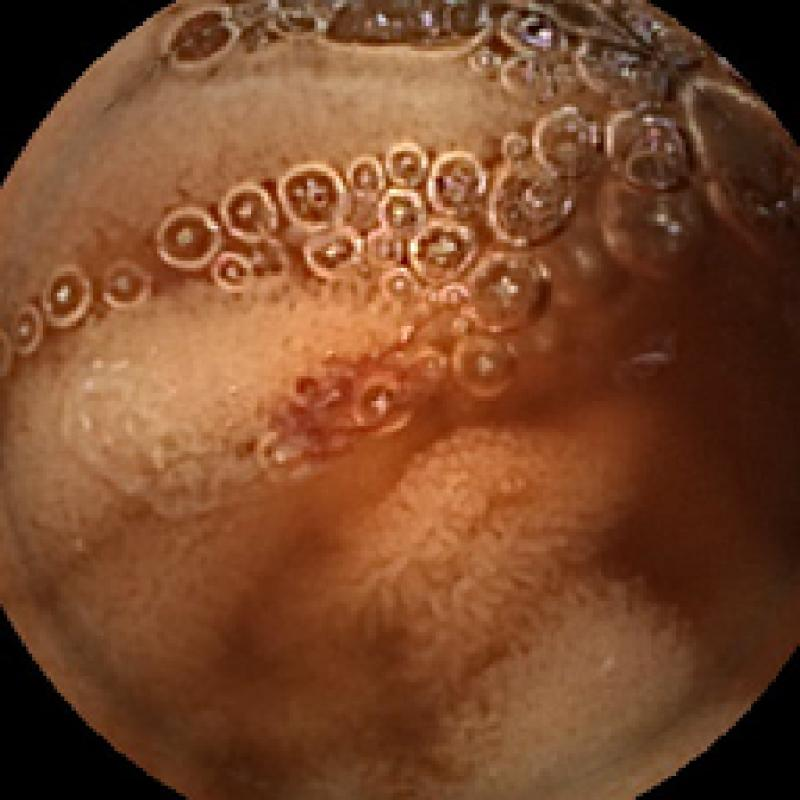bleeding: (257, 336, 436, 475)
